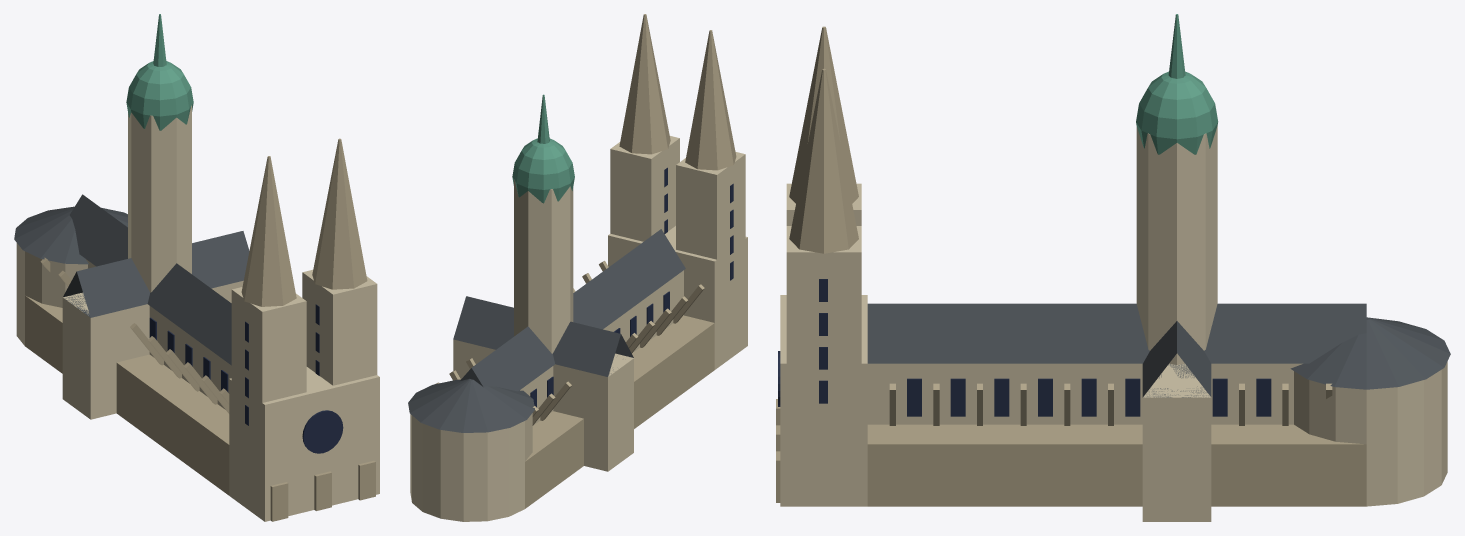
File: catedral_bayeux.glb
3 renders of one model, left to right at view 1: azimuth 30°, elevation 25°; view 2: azimuth 150°, elevation 25°; view 3: azimuth 270°, elevation 25°, orthographic. The views are drawn at different scales.
Parts seen in each view (by area): view 1: Catedral; view 2: Catedral; view 3: Catedral.
Part boxes in pixels (left/top/right/bottom): Catedral: left=14, top=14, right=379, bottom=521; Catedral: left=408, top=14, right=747, bottom=521; Catedral: left=776, top=14, right=1450, bottom=521.
Bounding box in the file's own units: 37.7 × 81 × 108.
